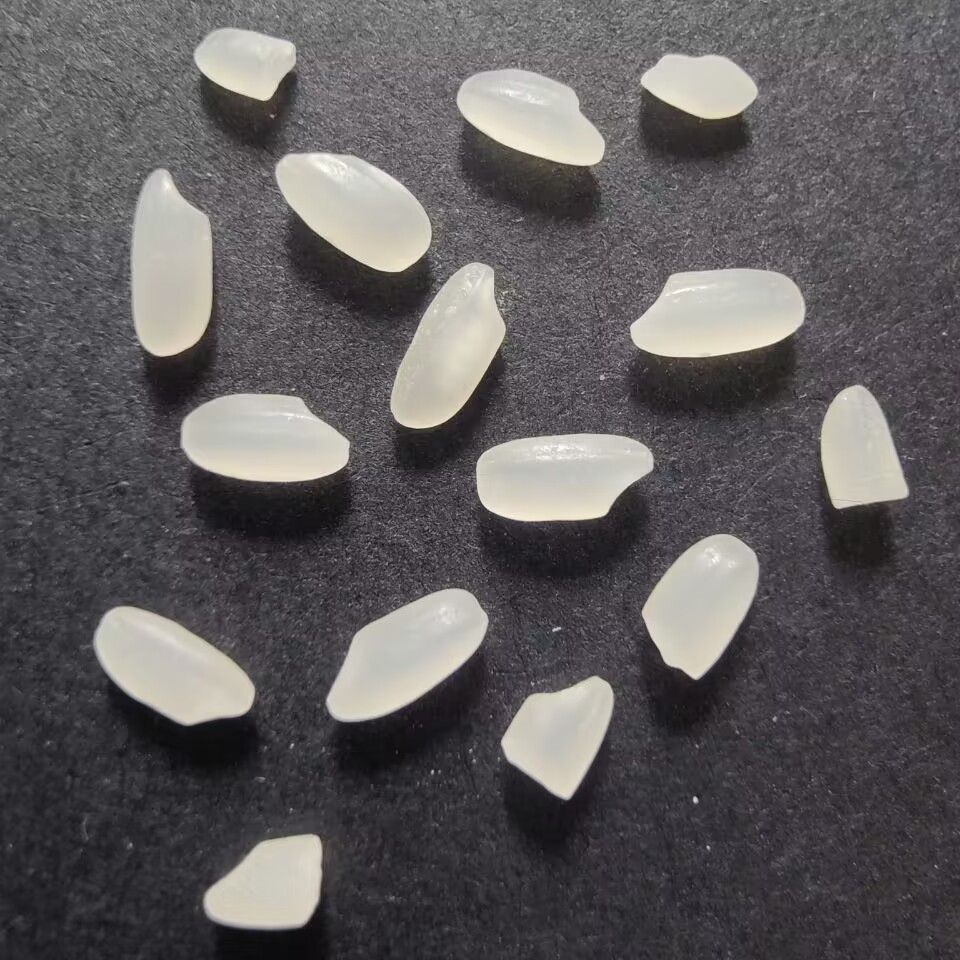broken: (634, 532, 761, 685), (494, 673, 615, 806), (196, 826, 326, 937), (812, 381, 911, 517), (188, 23, 304, 109), (635, 44, 761, 123)
rice: (317, 584, 493, 728), (91, 601, 264, 731), (383, 258, 511, 433), (268, 148, 438, 276), (469, 428, 658, 528), (622, 264, 811, 362), (129, 161, 218, 364), (179, 390, 355, 489), (453, 65, 612, 172)
